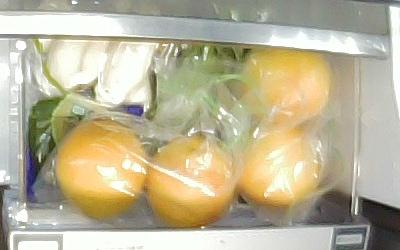grapefruit_vinyl: (55, 121, 147, 220), (147, 135, 234, 228), (236, 47, 332, 129), (231, 124, 326, 206)
